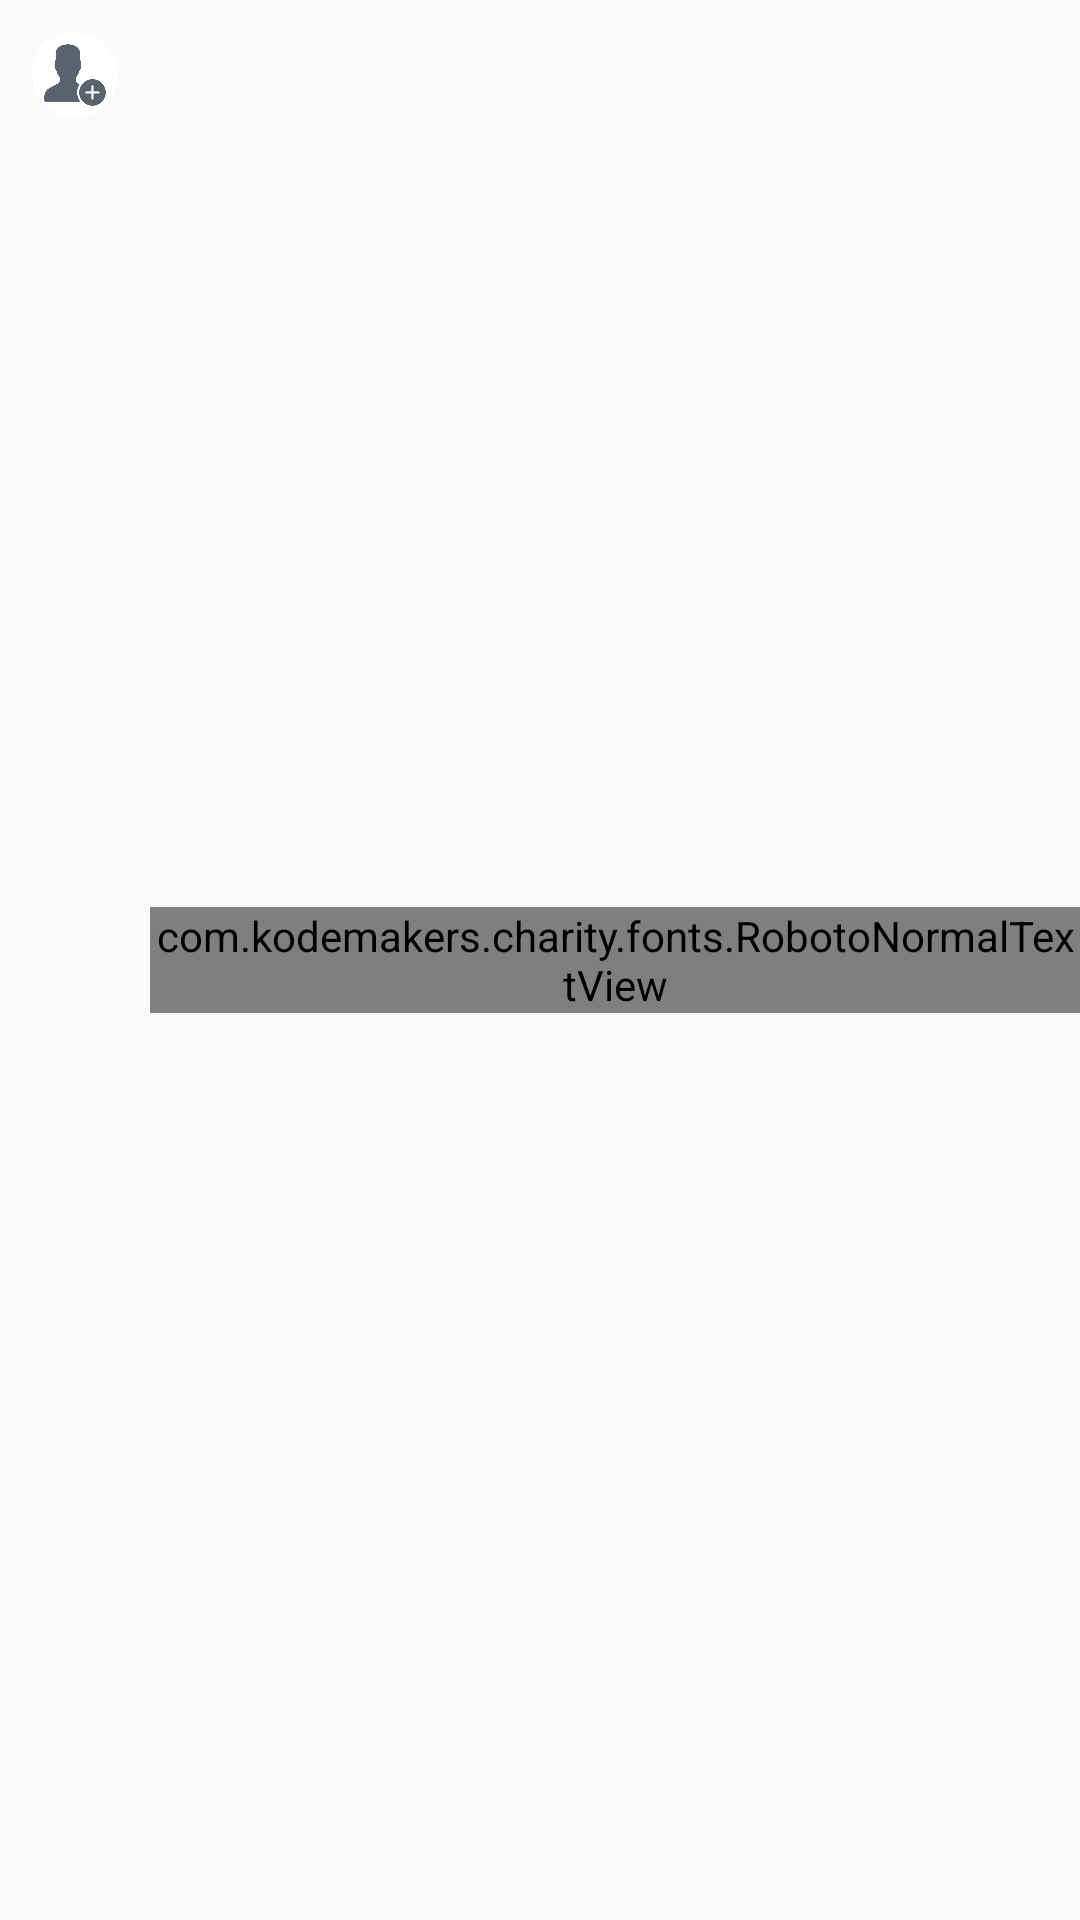

Icon click points for this 1080*1920 phone screenshot, format [x,y]:
user: [75,75]
